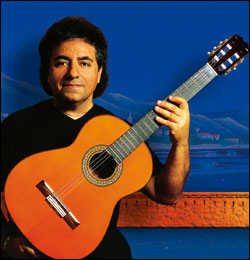guitar: (3, 34, 249, 260)
